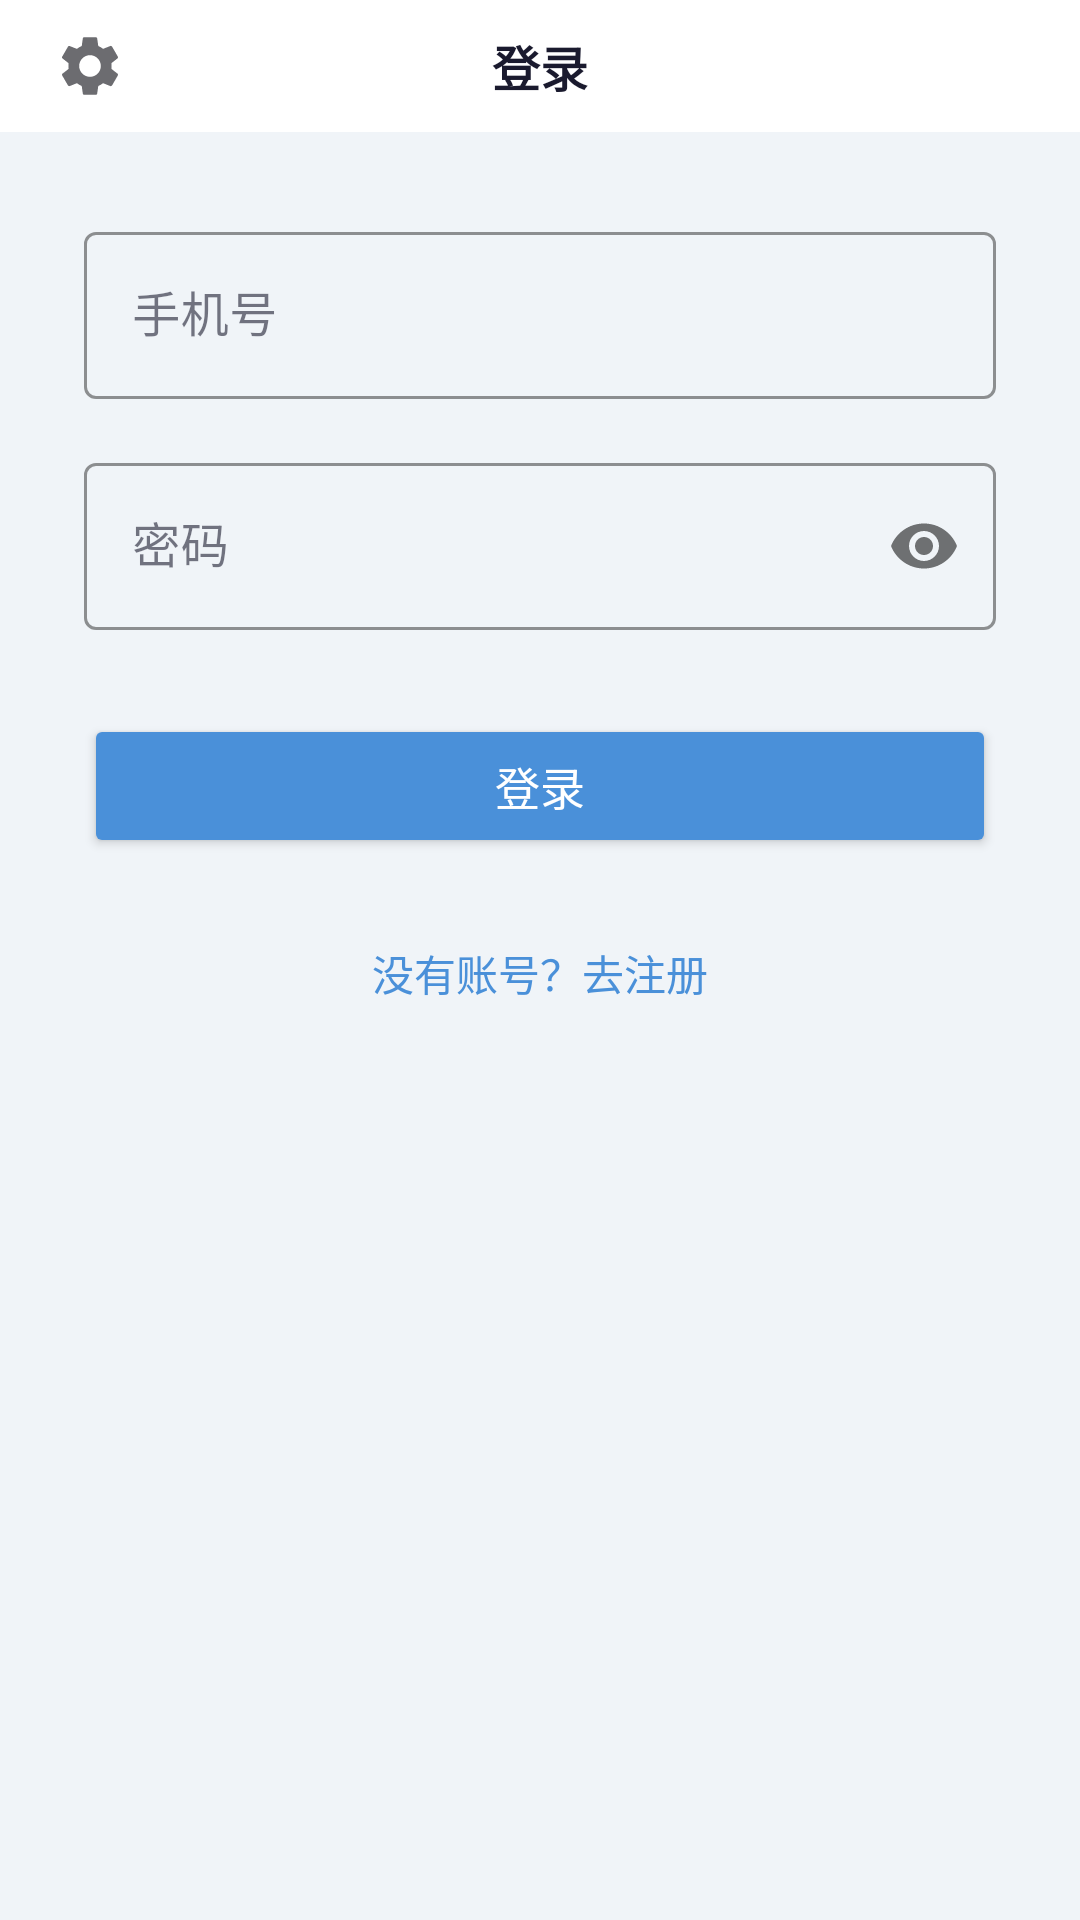

Screen size 1080 x 1920. Icon name, then its box in pixels as [x1=x1, y1=y1, x2=x2, y2=y2]:
设置: [x1=62, y1=37, x2=118, y2=95]
